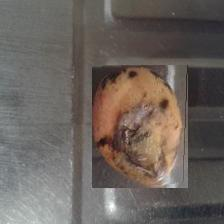Mango Semirotten: (93, 65, 189, 188)
